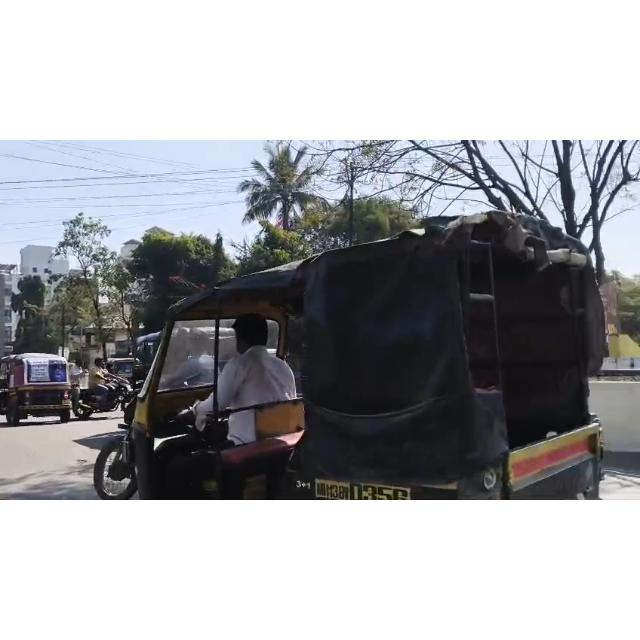auto: (127, 205, 617, 500), (129, 324, 239, 404), (4, 352, 76, 423), (102, 356, 140, 396)
